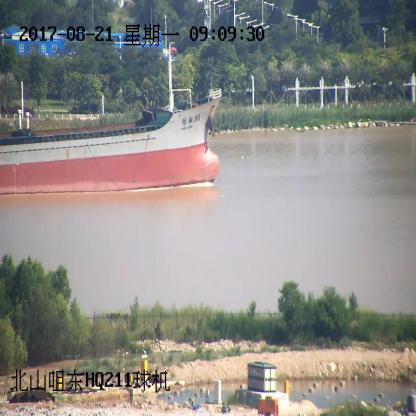Bulk Carrier: (0, 46, 221, 193)
